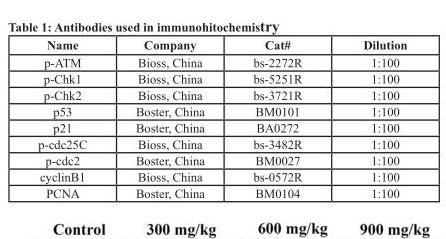table: (37, 37, 406, 199)
table column: (110, 37, 228, 199), (228, 37, 331, 199), (331, 37, 406, 199), (37, 37, 110, 199)
table column header: (37, 37, 406, 53)
table row: (37, 53, 406, 70), (37, 102, 406, 119), (37, 151, 406, 168), (37, 37, 406, 53), (37, 70, 406, 86), (37, 86, 406, 102), (37, 119, 406, 135), (37, 135, 406, 151), (37, 168, 406, 184), (37, 184, 406, 199)
